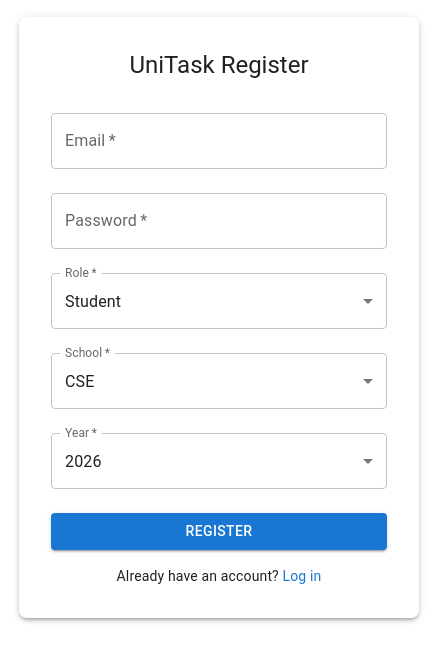
Register Component › should register a new user successfully and navigate to login
Note: Simulate user filling out only the text input fields
Type "newstudent@test.com" into the field labelled "Email *" at (219, 141), box [51,113,387,169]
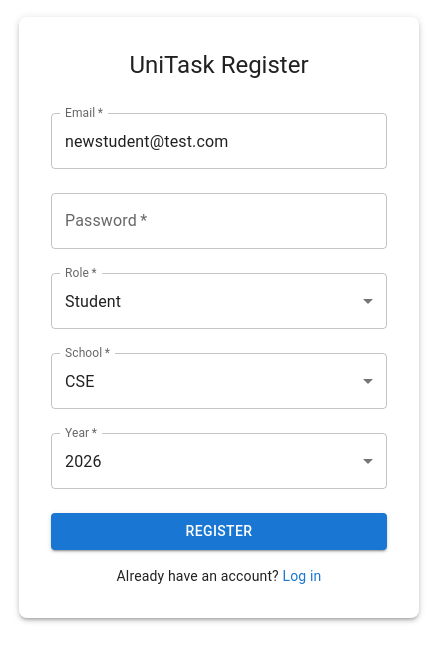
Type "newpassword123" into the password field labelled "Password *" at (219, 221), box [51,193,387,249]
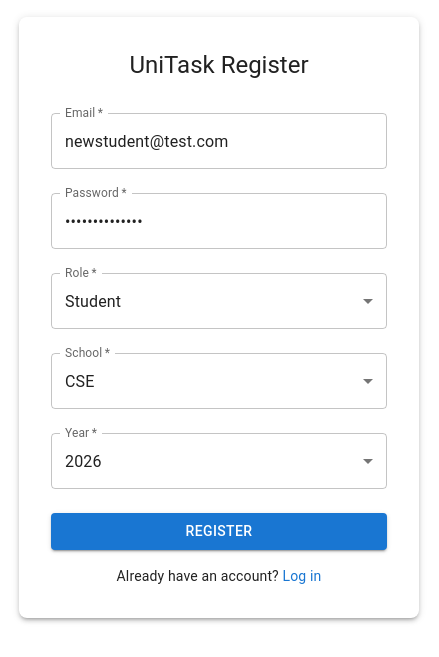
Click the button "Register" at (219, 531), box [51,513,387,550]
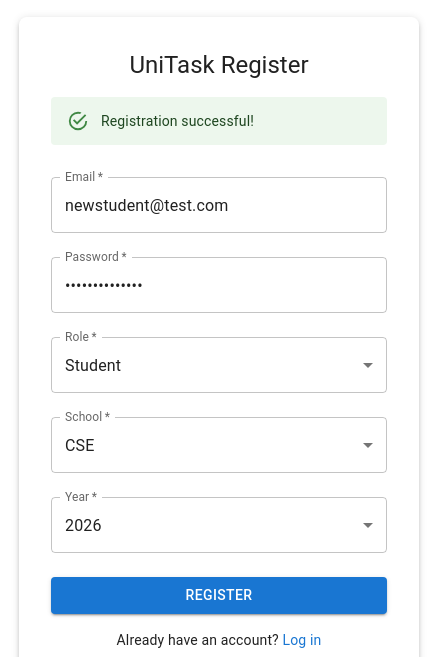
Check: the text "Registration successful!" is shown, box [101,113,254,129]
